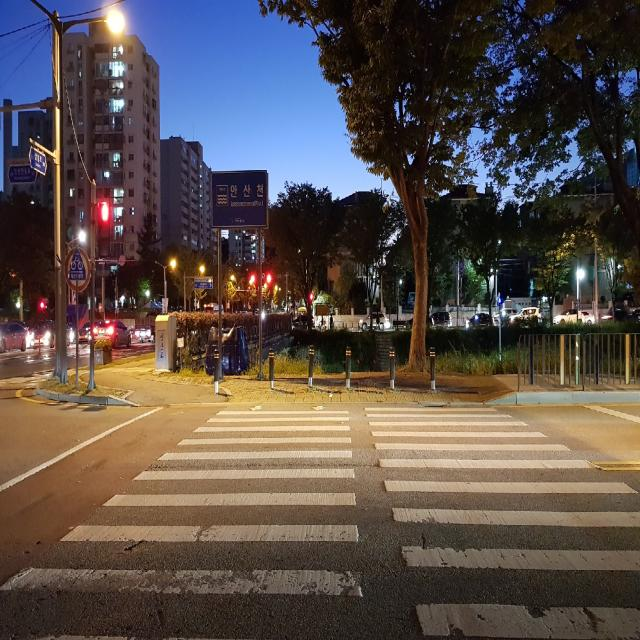빨간불: (98, 203, 110, 257)
횡단보도: (0, 404, 640, 640)
